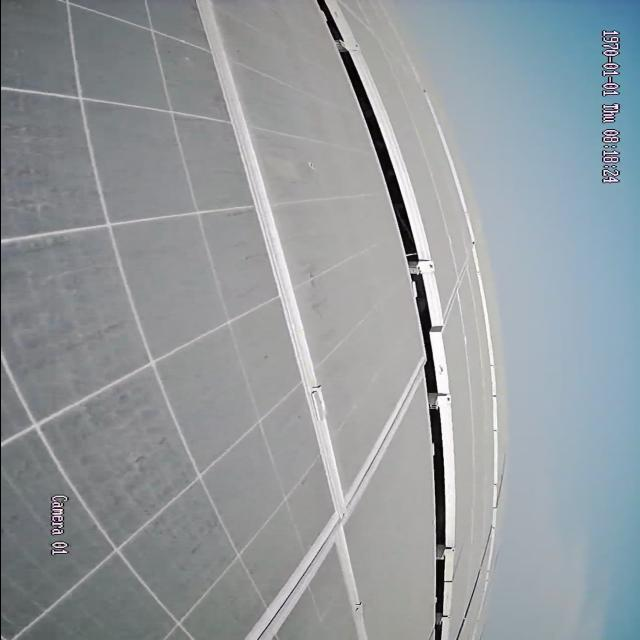interior panel: (192, 2, 420, 636)
outher panel: (316, 1, 456, 640)
